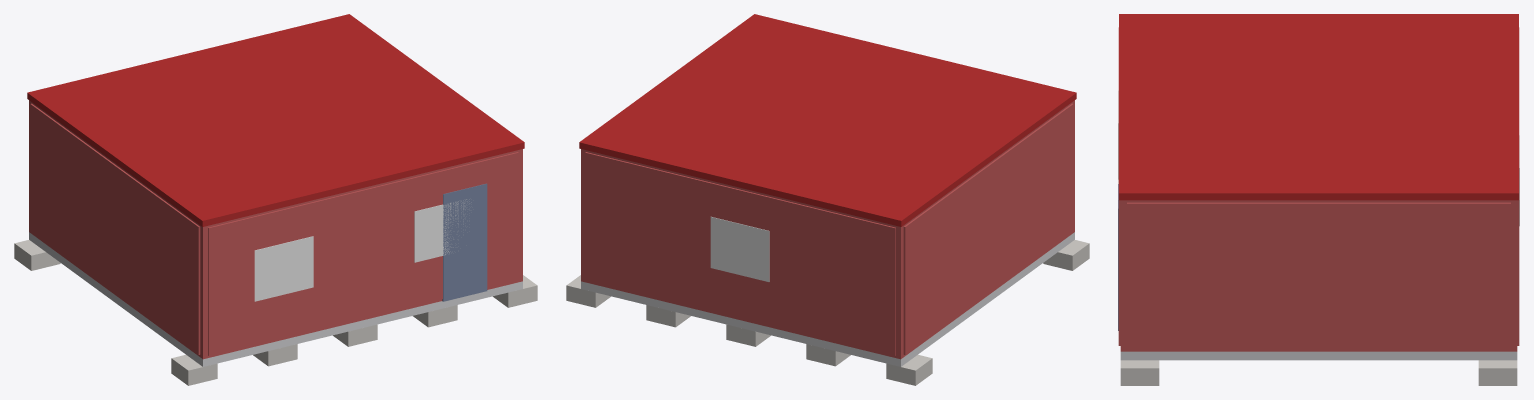
File: Studio-20-Base-CrimsonRed-LOD1.glb
3 views of the same model, side by side, from view 1: azimuth 30°, elevation 25°; view 2: azimuth 150°, elevation 25°; view 3: azimuth 270°, elevation 25° (orthographic). The views are drawn at different scales.
Parts seen in each view (by area): view 1: RoofMain, ExteriorPanelsStandard, WindowsStandard, EntryDoor, FoundationBlocks, BaseFrame, ExteriorShell; view 2: ExteriorPanelsStandard, RoofMain, FoundationBlocks, BaseFrame, ExteriorShell, WindowsStandard; view 3: RoofMain, ExteriorPanelsStandard, ExteriorShell, BaseFrame, FoundationBlocks.
Part boxes in pixels (bbox=[...]): RoofMain: bbox=[27, 14, 524, 226]; ExteriorPanelsStandard: bbox=[30, 103, 518, 355]; WindowsStandard: bbox=[254, 199, 471, 301]; EntryDoor: bbox=[442, 183, 487, 301]; FoundationBlocks: bbox=[14, 240, 537, 385]; BaseFrame: bbox=[29, 232, 522, 366]; ExteriorShell: bbox=[29, 100, 522, 359]; ExteriorPanelsStandard: bbox=[585, 103, 1073, 355]; RoofMain: bbox=[579, 14, 1076, 226]; FoundationBlocks: bbox=[566, 240, 1089, 385]; BaseFrame: bbox=[581, 232, 1074, 366]; ExteriorShell: bbox=[581, 100, 1074, 359]; WindowsStandard: bbox=[710, 216, 769, 281]; RoofMain: bbox=[1119, 14, 1518, 200]; ExteriorPanelsStandard: bbox=[1118, 27, 1519, 349]; ExteriorShell: bbox=[1120, 200, 1517, 351]; BaseFrame: bbox=[1120, 351, 1517, 360]; FoundationBlocks: bbox=[1120, 360, 1517, 385].
Bounding box in the file's own units: 7.14 × 3.17 × 6.24.
